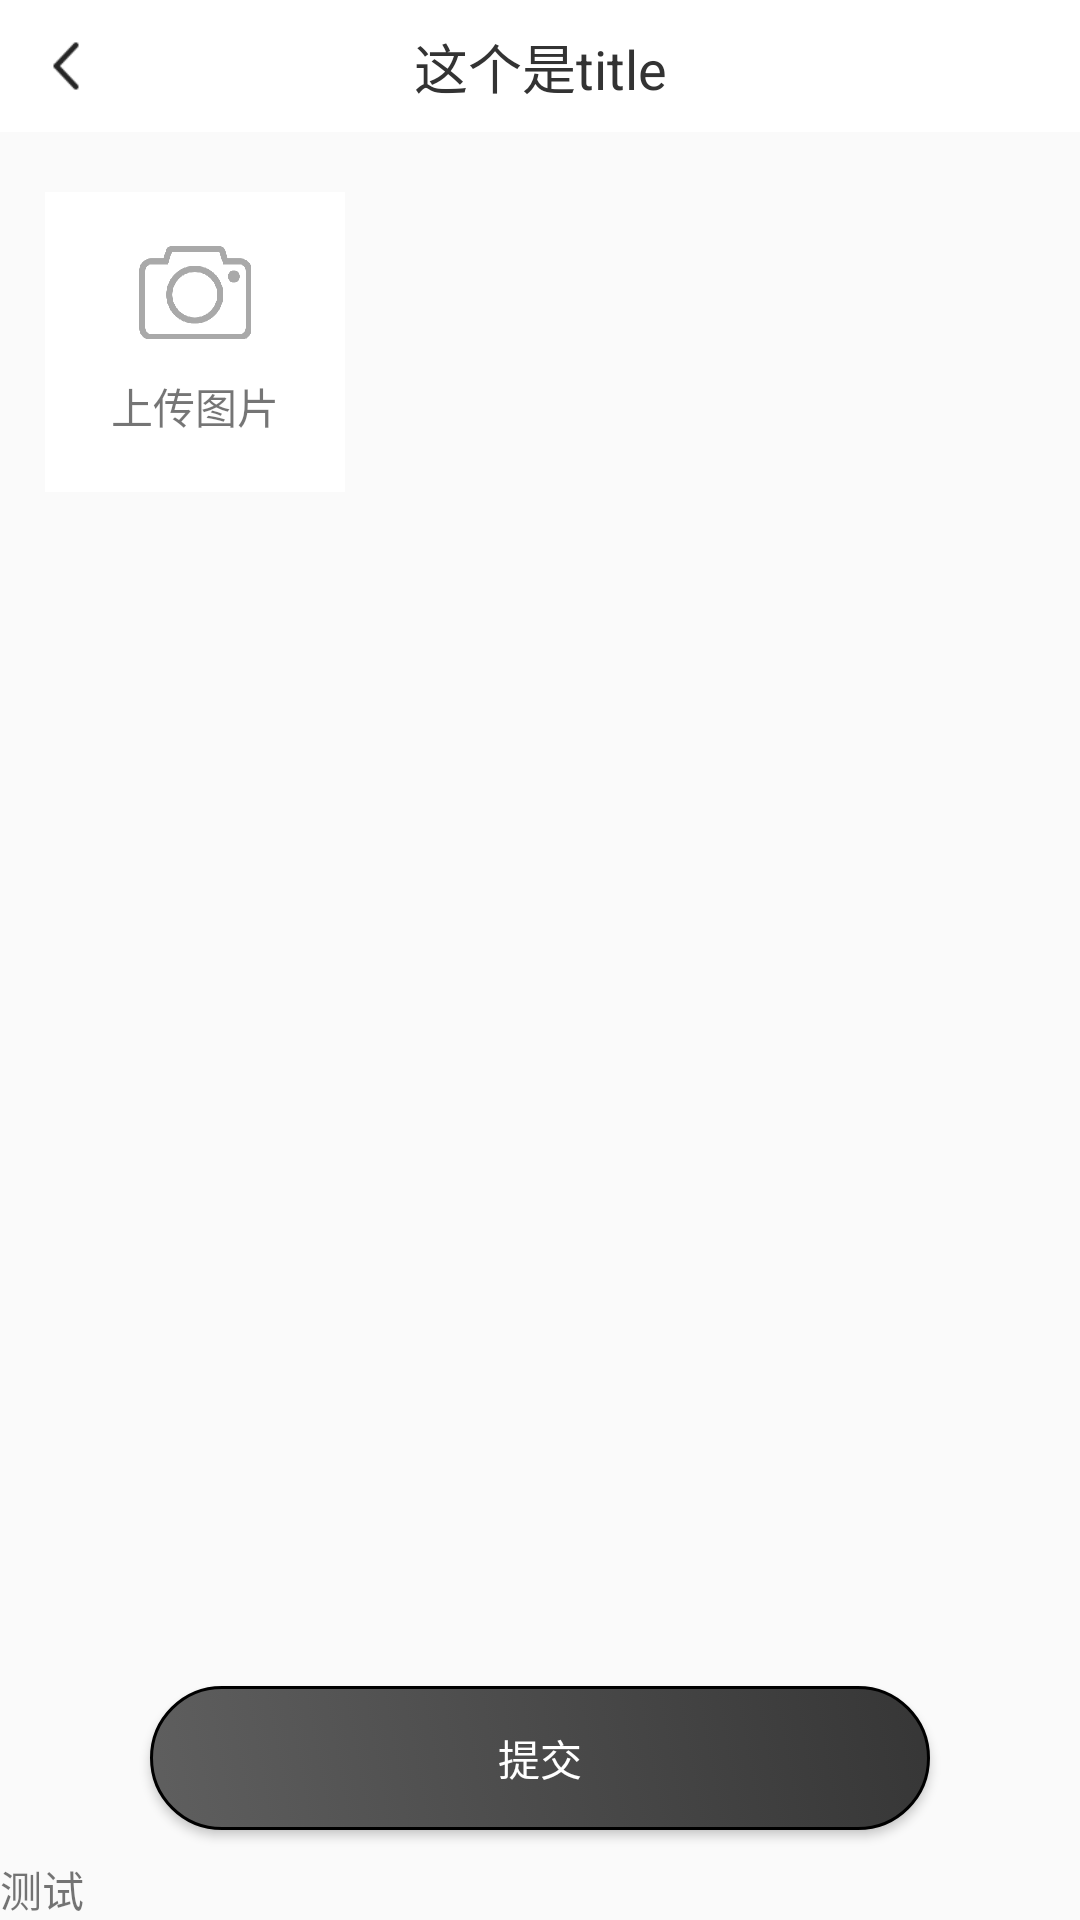

Named icons in this screenshot (1080px×1920px) and their centers, point (x, y):
back: point (66, 66)
take picture: point (195, 292)
